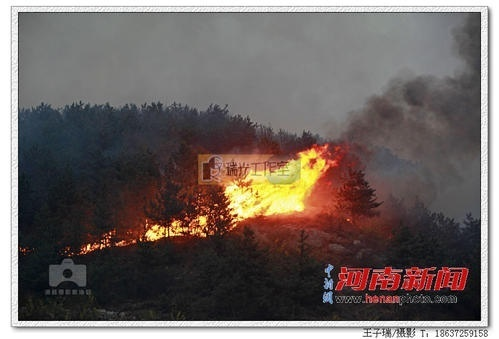fire: (221, 141, 343, 224)
